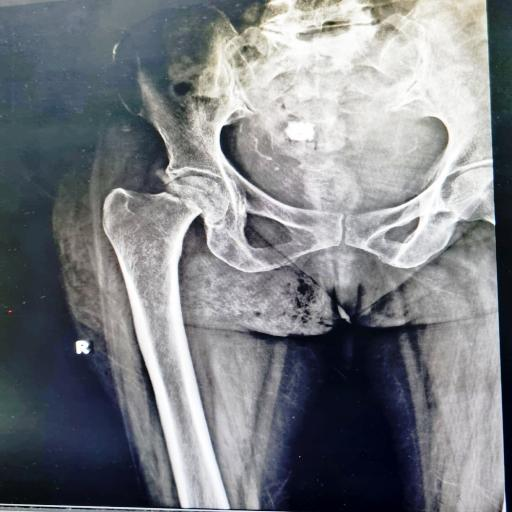neck: (102, 188, 203, 326), (166, 177, 230, 223)
